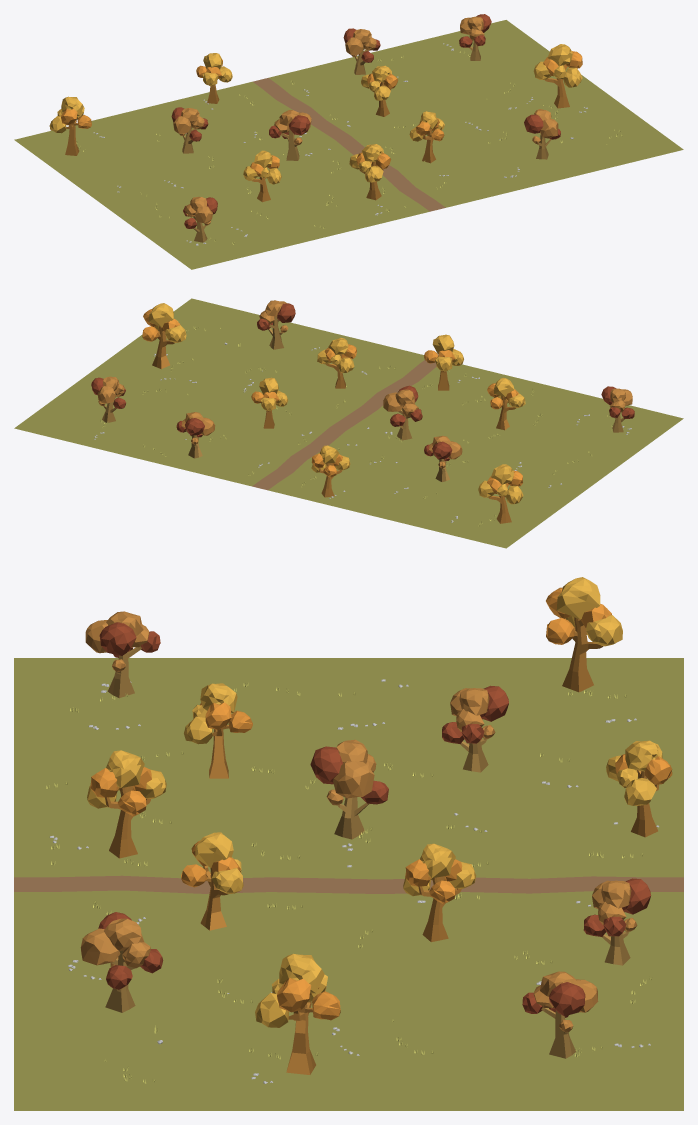
Rendered from landscapeTileAdraco.glb.
3 renders of one model, top to bottom at view 1: azimuth 30°, elevation 25°; view 2: azimuth 150°, elevation 25°; view 3: azimuth 270°, elevation 25°, orthographic. The views are drawn at different scales.
Parts seen in each view (by area): view 1: Plane.002; view 2: Plane.002; view 3: Plane.002.
Part boxes in pixels (x1=…): Plane.002: x1=14, y1=14, x2=683, y2=269; Plane.002: x1=14, y1=298, x2=683, y2=548; Plane.002: x1=14, y1=577, x2=683, y2=1110.
Bounding box in the file's own units: 200 × 23.83 × 125.
Materials: 22 (1 with a texture image).
